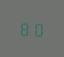eight: (19, 19, 30, 36)
zero: (31, 19, 42, 37)
